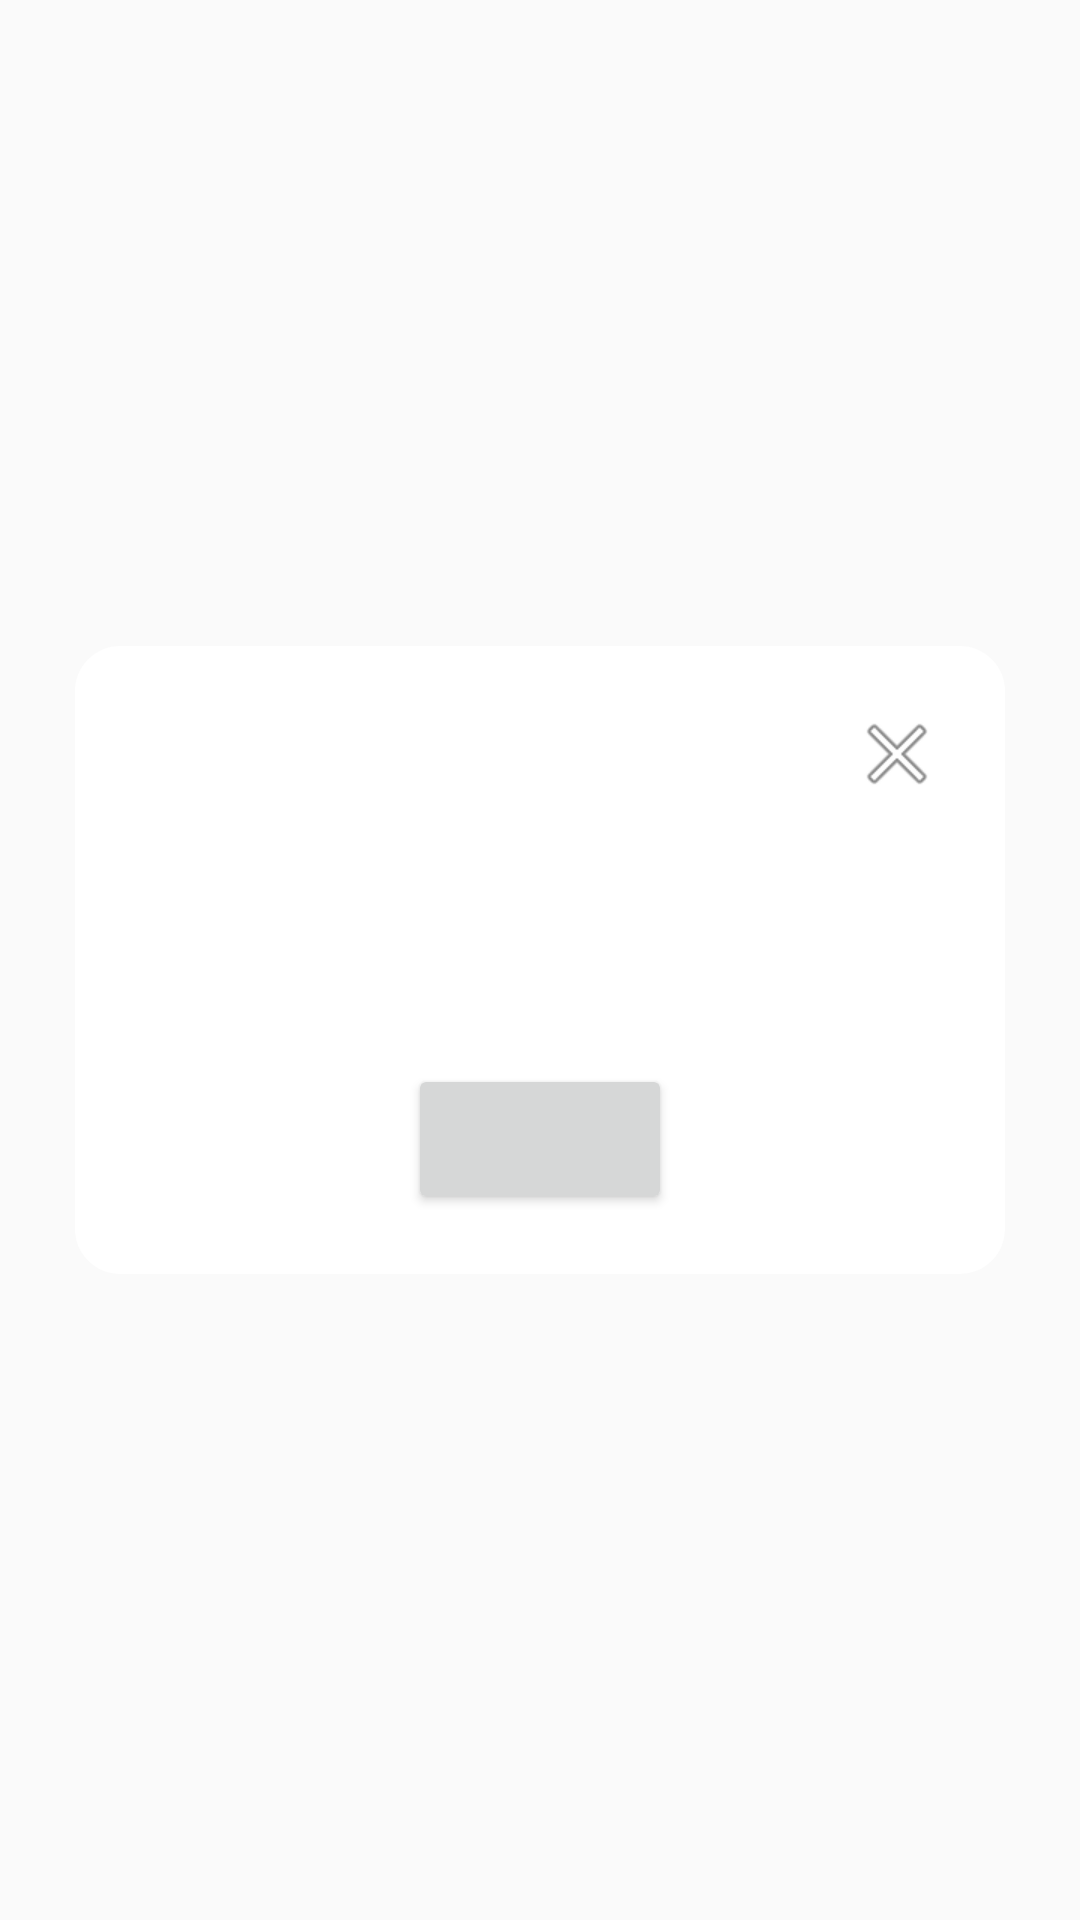

Screen size 1080px×1920px. Icon name, then its box in pixels as {"x1": x1, "y1": y1, "x2": x2, "y2": y2}:
close clear cancel: {"x1": 867, "y1": 724, "x2": 927, "y2": 784}
